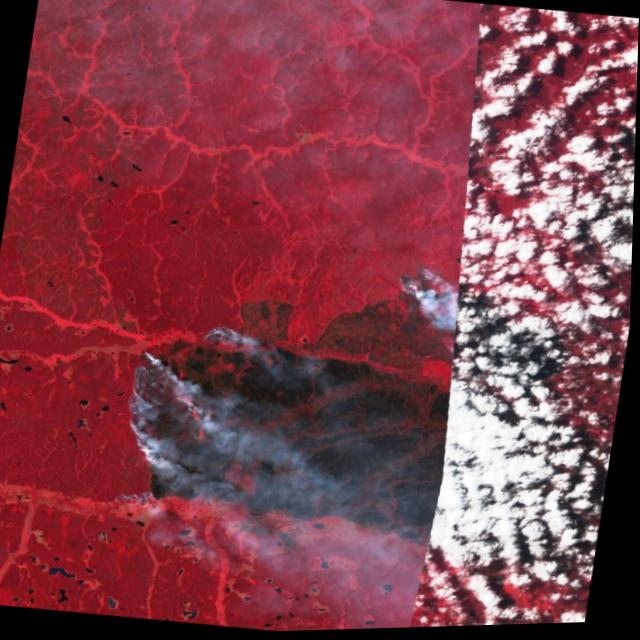fire: (101, 226, 503, 579)
